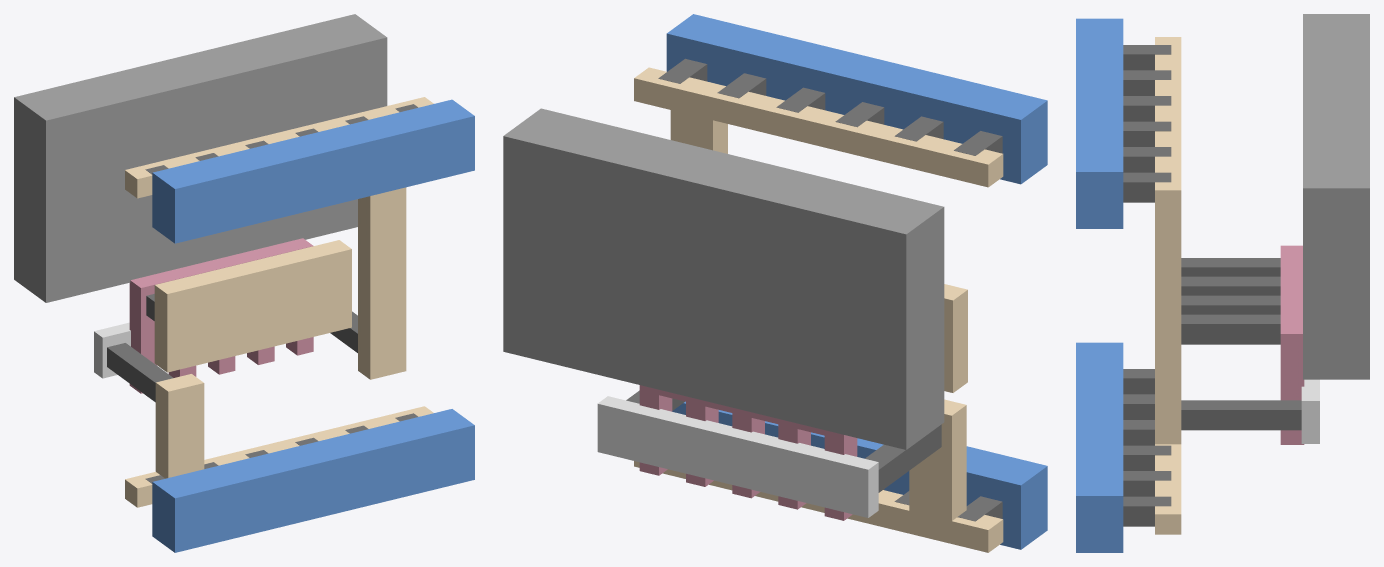
File: sky130_fd_sc_hd__lpflow_bleeder_1.gds.gltf
3 renders of one model, left to right at view 1: azimuth 30°, elevation 25°; view 2: azimuth 150°, elevation 25°; view 3: azimuth 270°, elevation 25°, orthographic. The views are drawn at different scales.
Parts seen in each view (by area): view 1: sky130_fd_sc_hd__lpflow_bleeder_1_nwell, sky130_fd_sc_hd__lpflow_bleeder_1_met1, sky130_fd_sc_hd__lpflow_bleeder_1_li1, sky130_fd_sc_hd__lpflow_bleeder_1_poly, sky130_fd_sc_hd__lpflow_bleeder_1_licon, sky130_fd_sc_hd__lpflow_bleeder_1_mcon, sky130_fd_sc_hd__lpflow_bleeder_1_diff; view 2: sky130_fd_sc_hd__lpflow_bleeder_1_nwell, sky130_fd_sc_hd__lpflow_bleeder_1_met1, sky130_fd_sc_hd__lpflow_bleeder_1_li1, sky130_fd_sc_hd__lpflow_bleeder_1_diff, sky130_fd_sc_hd__lpflow_bleeder_1_mcon, sky130_fd_sc_hd__lpflow_bleeder_1_poly, sky130_fd_sc_hd__lpflow_bleeder_1_licon; view 3: sky130_fd_sc_hd__lpflow_bleeder_1_nwell, sky130_fd_sc_hd__lpflow_bleeder_1_met1, sky130_fd_sc_hd__lpflow_bleeder_1_licon, sky130_fd_sc_hd__lpflow_bleeder_1_li1, sky130_fd_sc_hd__lpflow_bleeder_1_mcon, sky130_fd_sc_hd__lpflow_bleeder_1_poly, sky130_fd_sc_hd__lpflow_bleeder_1_diff.
Part boxes in pixels (box(x1,y1,x2,y2)): sky130_fd_sc_hd__lpflow_bleeder_1_nwell: box(14, 14, 387, 302); sky130_fd_sc_hd__lpflow_bleeder_1_met1: box(152, 99, 474, 552); sky130_fd_sc_hd__lpflow_bleeder_1_li1: box(125, 97, 433, 507); sky130_fd_sc_hd__lpflow_bleeder_1_poly: box(129, 238, 313, 393); sky130_fd_sc_hd__lpflow_bleeder_1_licon: box(107, 294, 357, 402); sky130_fd_sc_hd__lpflow_bleeder_1_mcon: box(145, 104, 418, 483); sky130_fd_sc_hd__lpflow_bleeder_1_diff: box(94, 322, 130, 378); sky130_fd_sc_hd__lpflow_bleeder_1_nwell: box(503, 108, 944, 449); sky130_fd_sc_hd__lpflow_bleeder_1_met1: box(666, 14, 1047, 549); sky130_fd_sc_hd__lpflow_bleeder_1_li1: box(634, 67, 1003, 552); sky130_fd_sc_hd__lpflow_bleeder_1_diff: box(597, 396, 878, 517); sky130_fd_sc_hd__lpflow_bleeder_1_mcon: box(658, 58, 1002, 521); sky130_fd_sc_hd__lpflow_bleeder_1_poly: box(639, 385, 857, 520); sky130_fd_sc_hd__lpflow_bleeder_1_licon: box(626, 390, 941, 492); sky130_fd_sc_hd__lpflow_bleeder_1_nwell: box(1303, 14, 1369, 379); sky130_fd_sc_hd__lpflow_bleeder_1_met1: box(1076, 18, 1123, 552); sky130_fd_sc_hd__lpflow_bleeder_1_licon: box(1181, 258, 1301, 430); sky130_fd_sc_hd__lpflow_bleeder_1_li1: box(1155, 37, 1181, 534); sky130_fd_sc_hd__lpflow_bleeder_1_mcon: box(1123, 45, 1171, 526); sky130_fd_sc_hd__lpflow_bleeder_1_poly: box(1280, 245, 1304, 444); sky130_fd_sc_hd__lpflow_bleeder_1_diff: box(1301, 379, 1319, 443).
Bounding box in the file's own units: 3.14 × 3.2 × 2.24.
